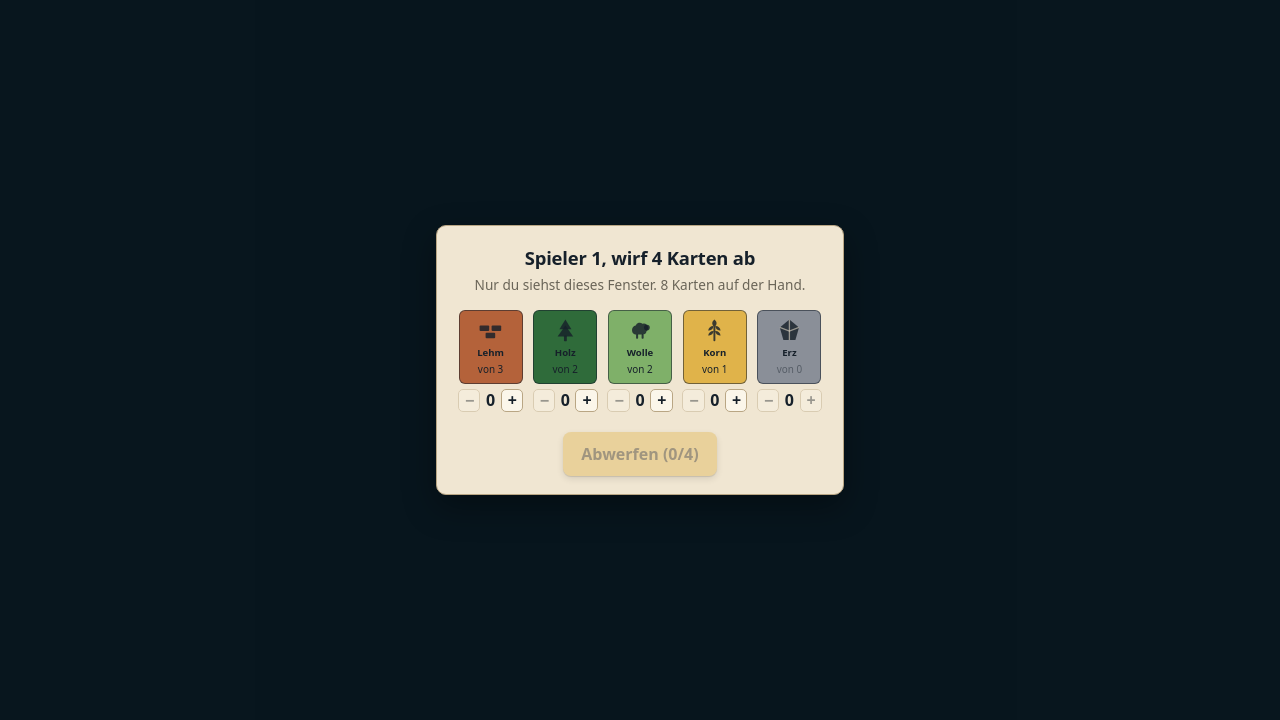
Scenario: DiscardDialog, der Weg zurueck › sperrt das Minus erst bei null
Expected: the button named "Lehm weniger" is disabled, [458,389,480,412]
Click the button named "Lehm mehr": (512, 400) [501,389,523,412]
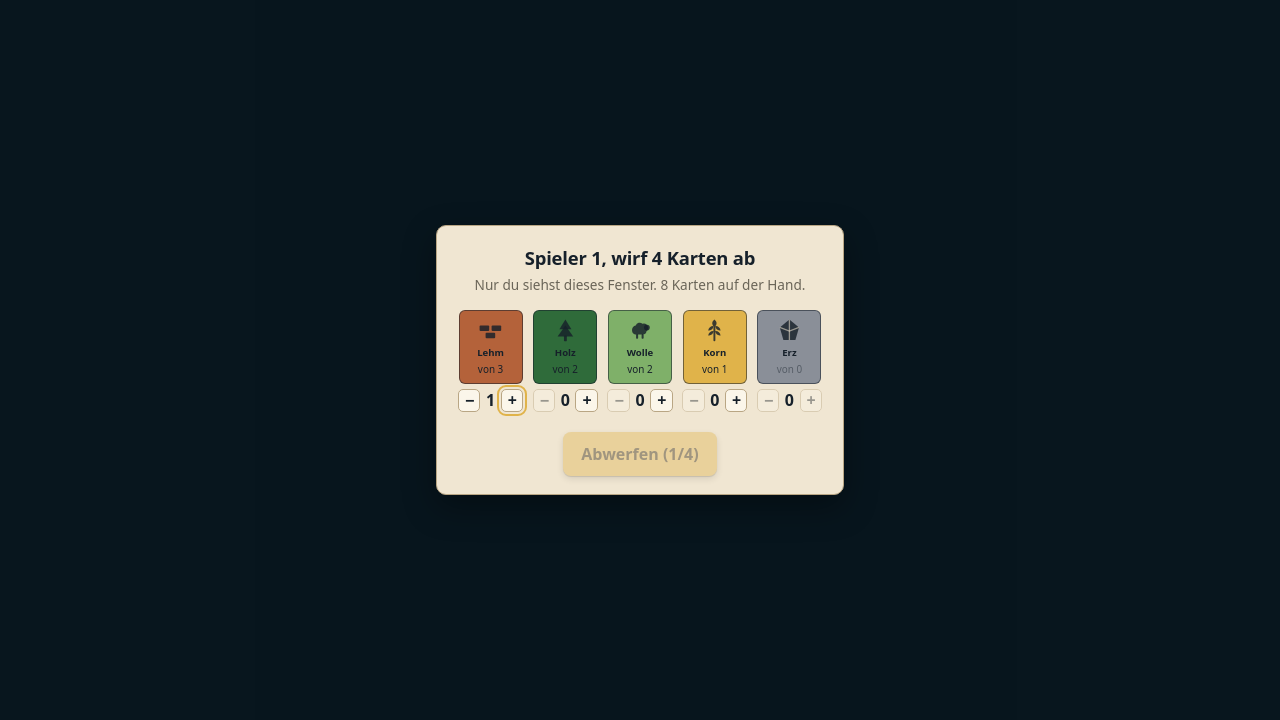
Result: the button named "Lehm weniger" is enabled at [458,389,480,412]
